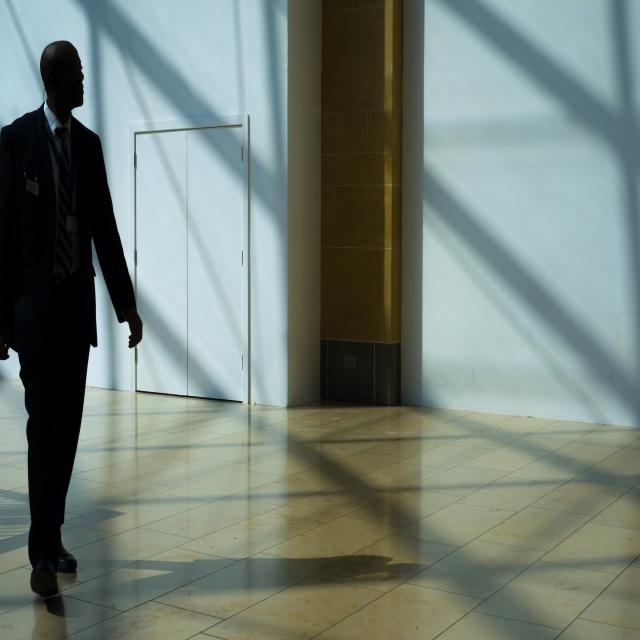adult: (0, 42, 142, 594)
